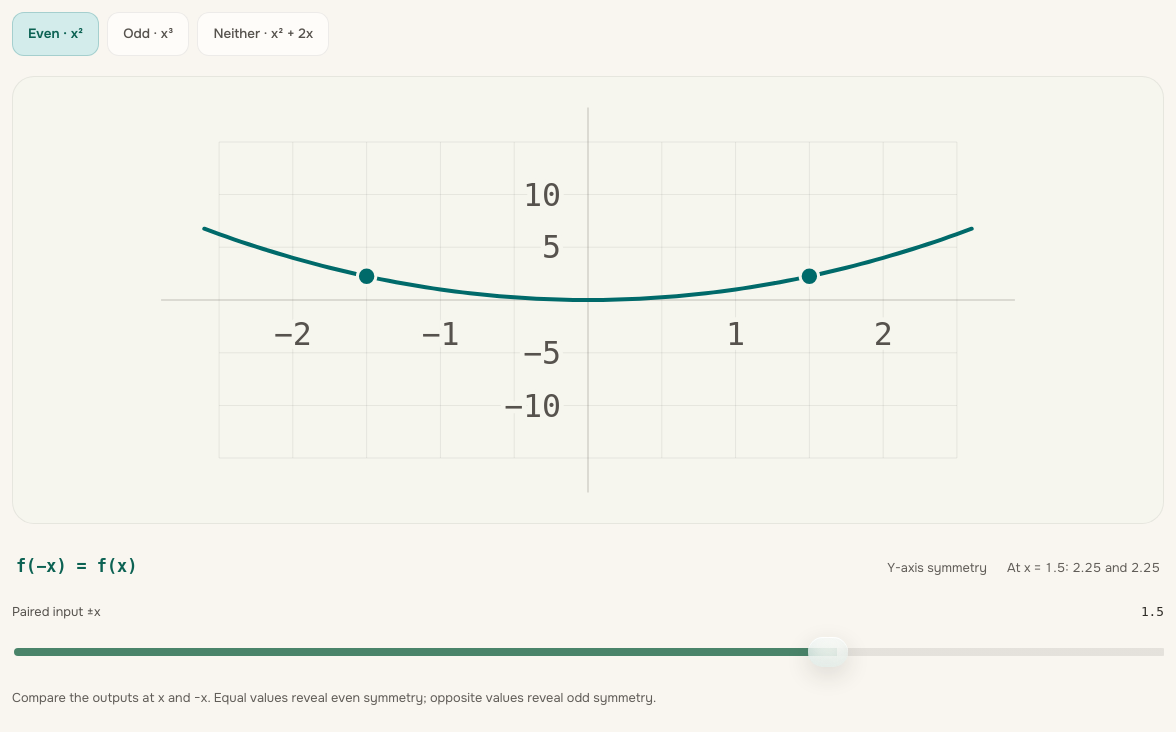
Test: SystemsDiagram › connects odd symmetry to opposite function values
This screenshot has width=1176, height=732.
What coordinates should you click on to do the following:
click the tab "Odd · x³"
I would click on:
 (148, 34)
Its box is 107,12 -> 190,56.
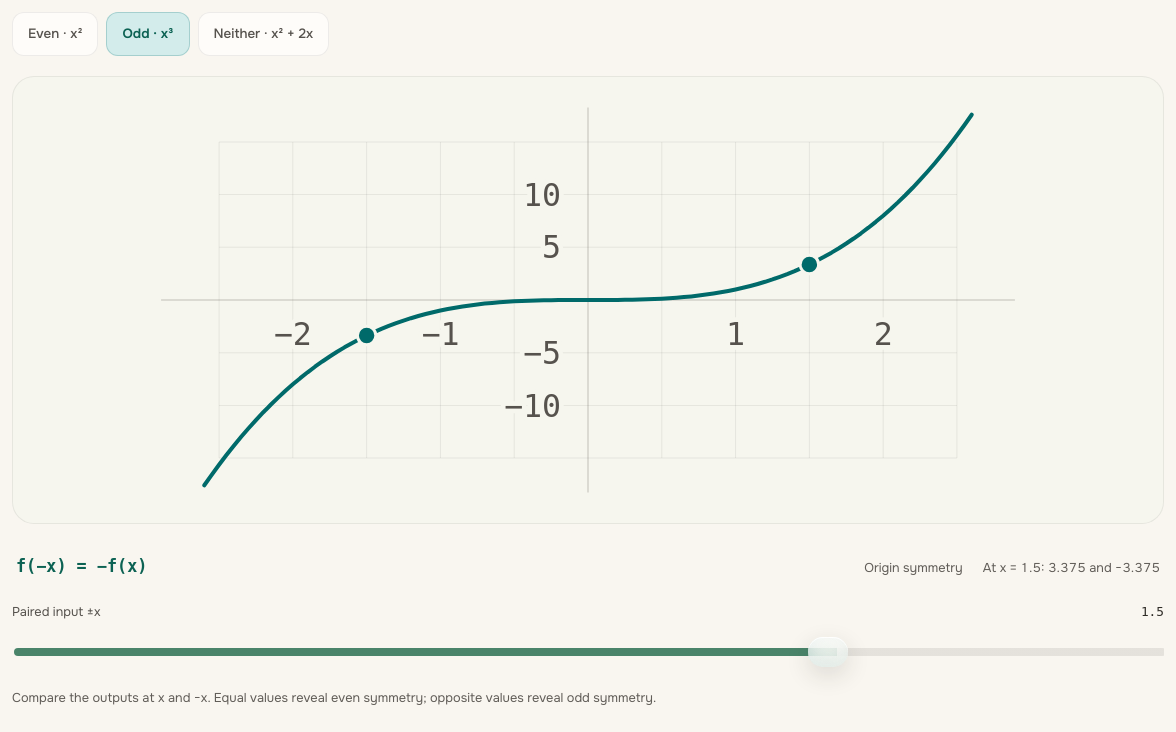
expect the text "f(−x) = −f(x)" is shown: met, box 16,556 -> 147,576
expect the text "Origin symmetry" is shown: met, box 864,560 -> 963,576
